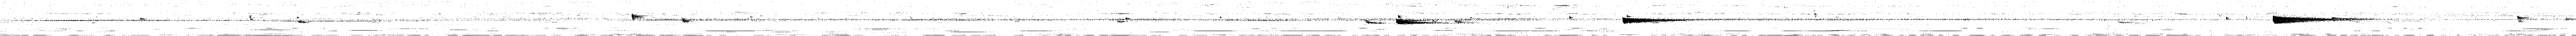meteor: (2272, 16, 2351, 23), (1623, 18, 1686, 25), (1396, 20, 1433, 25), (631, 13, 647, 20), (1365, 20, 1385, 25), (682, 18, 693, 23), (297, 20, 310, 23), (2517, 16, 2530, 20), (2118, 21, 2132, 23), (1626, 15, 1631, 18), (140, 18, 146, 20)
